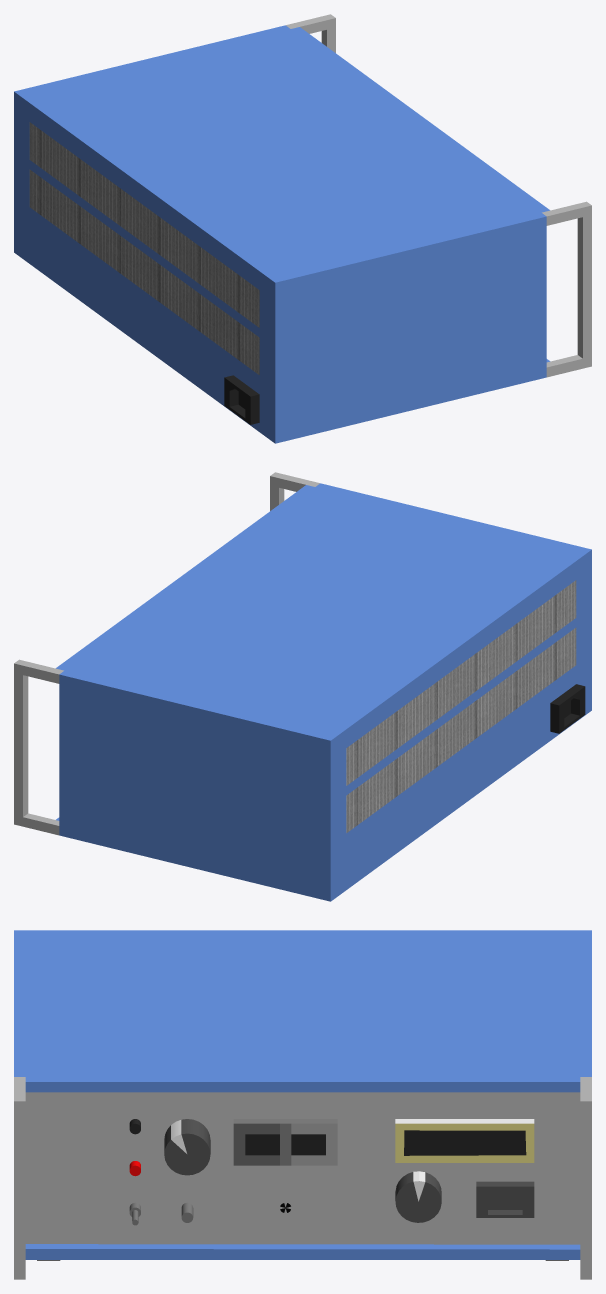
File: Regulador.fbx
The picture shows the model from 3 angles, top to bottom: view 1: azimuth 30°, elevation 25°; view 2: azimuth 150°, elevation 25°; view 3: azimuth 270°, elevation 25°; orthographic projection. The views are drawn at different scales.
Visible parts, largest first — view 1: Model; view 2: Model; view 3: Model.
Boxes of the visible parts, bbox=[...] form: Model: bbox=[14, 14, 591, 443]; Model: bbox=[14, 472, 591, 901]; Model: bbox=[14, 930, 591, 1279].
Size of the model in its own units: 0.36 by 0.18 by 0.5.
